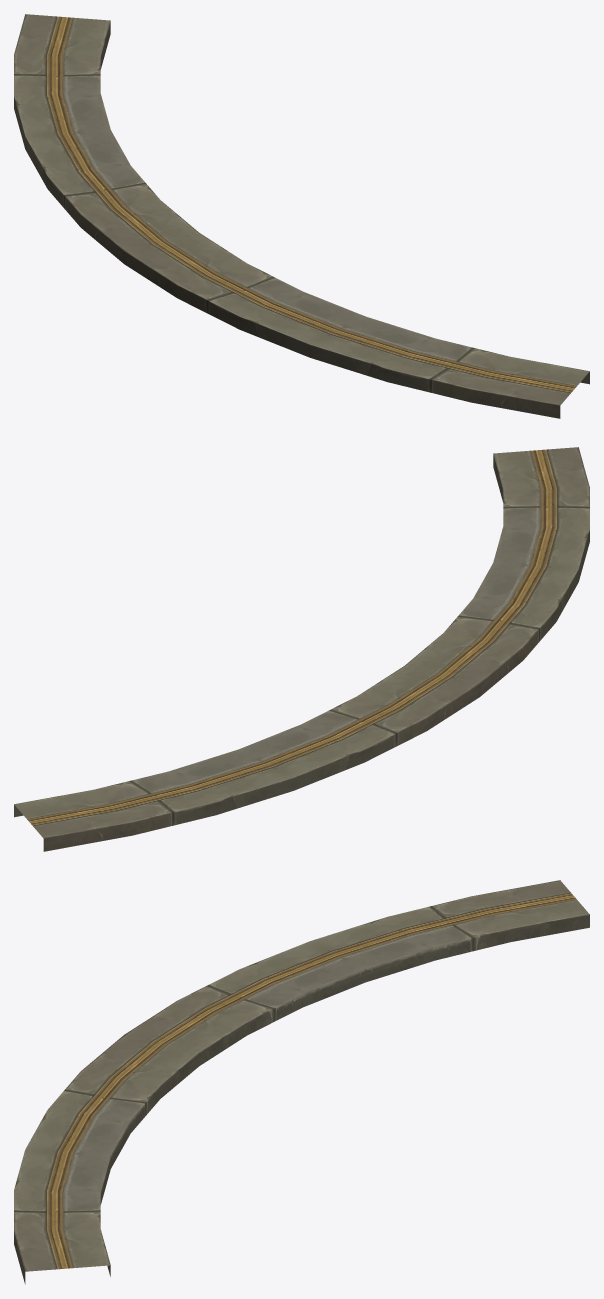
Rendered from DN_mcdibiaozj07.FBX.
3 renders of one model, top to bottom at view 1: azimuth 30°, elevation 25°; view 2: azimuth 150°, elevation 25°; view 3: azimuth 330°, elevation 25°, orthographic.
Visible parts, largest first — view 1: DN_mcdibiaozj07; view 2: DN_mcdibiaozj07; view 3: DN_mcdibiaozj07.
Boxes of the visible parts, left/top/right/bottom form: DN_mcdibiaozj07: left=14, top=14, right=589, bottom=418; DN_mcdibiaozj07: left=14, top=447, right=589, bottom=851; DN_mcdibiaozj07: left=14, top=880, right=589, bottom=1284.
Bounding box in the file's own units: 427 × 23.57 × 1748.
1 material, 1 textured.
